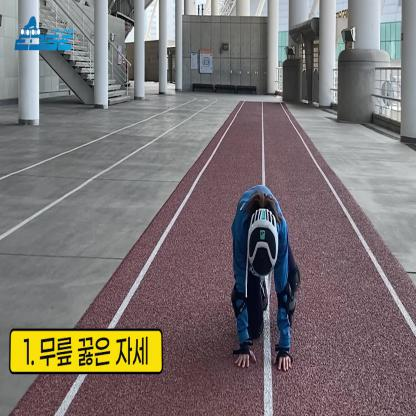Fall_Down: (230, 186, 302, 374)
